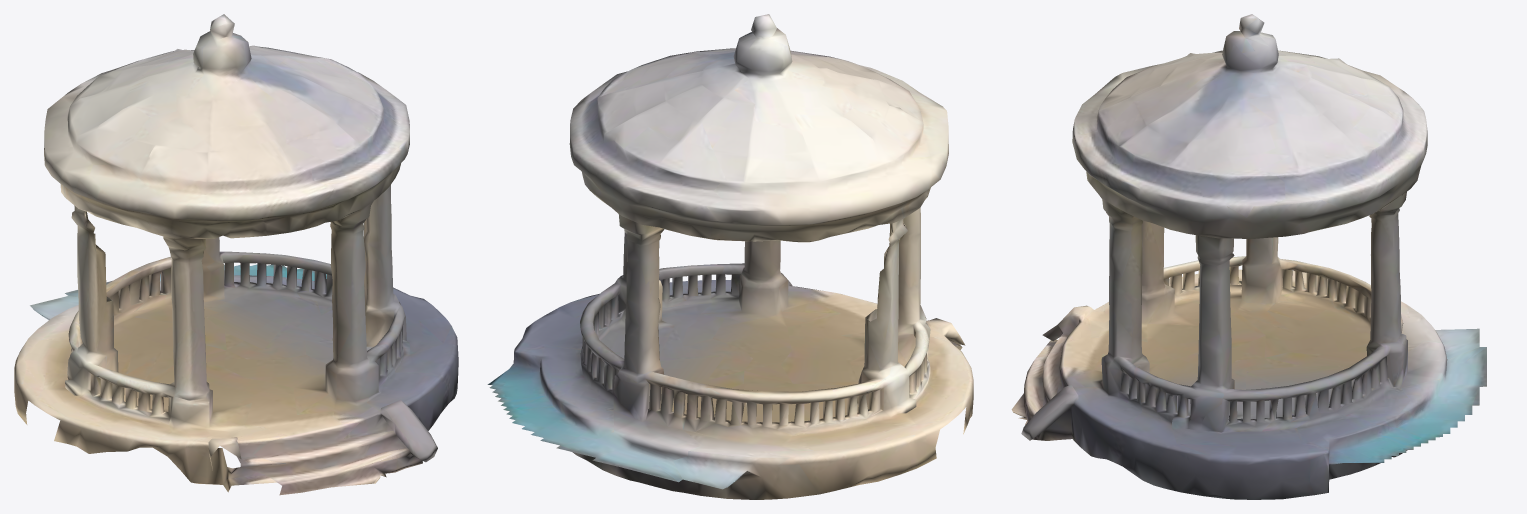
File: gazebo.glb
3 views of the same model, side by side, from view 1: azimuth 30°, elevation 25°; view 2: azimuth 150°, elevation 25°; view 3: azimuth 270°, elevation 25° (orthographic). The views are drawn at different scales.
Visible parts, largest first — view 1: tripo_node_01a21ca0-c616-7476-829c-5289907317fd; view 2: tripo_node_01a21ca0-c616-7476-829c-5289907317fd; view 3: tripo_node_01a21ca0-c616-7476-829c-5289907317fd.
Part boxes in pixels (x1=…): tripo_node_01a21ca0-c616-7476-829c-5289907317fd: x1=14, y1=14, x2=458, y2=495; tripo_node_01a21ca0-c616-7476-829c-5289907317fd: x1=487, y1=14, x2=973, y2=499; tripo_node_01a21ca0-c616-7476-829c-5289907317fd: x1=1011, y1=14, x2=1486, y2=499.
Size of the model in its own units: 7.12 by 6.58 by 8.
Materials: 1 (1 with a texture image).
